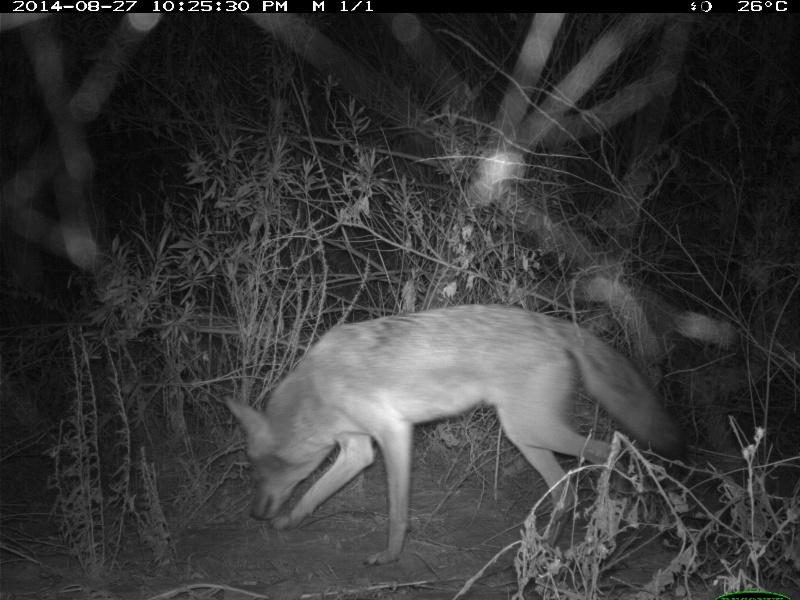coyote: (225, 296, 689, 570)
